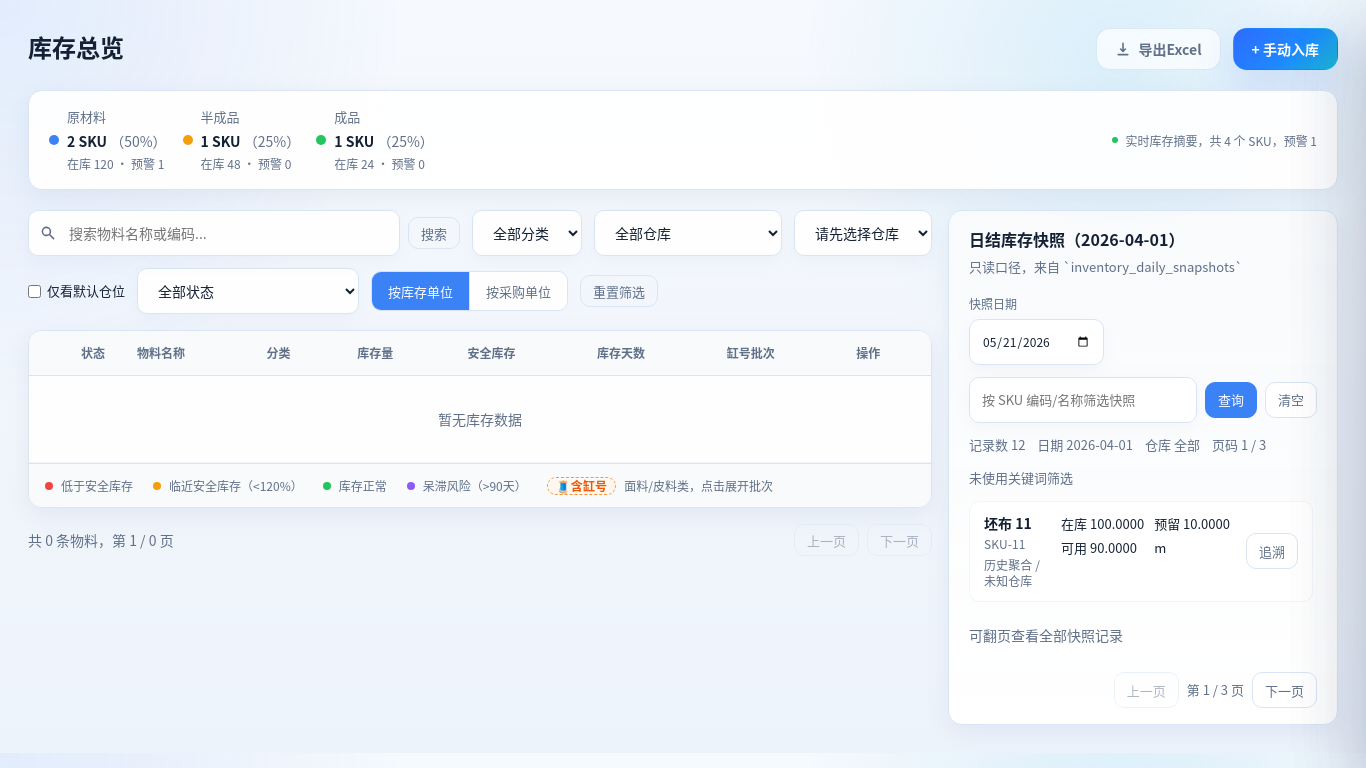
InventoryPage › 从日结快照点击追溯后应打开库存追溯抽屉
The width and height of the screenshot is (1366, 768).
Click the button "追溯": [1272, 551] box x1=1246 y1=533 x2=1298 y2=569
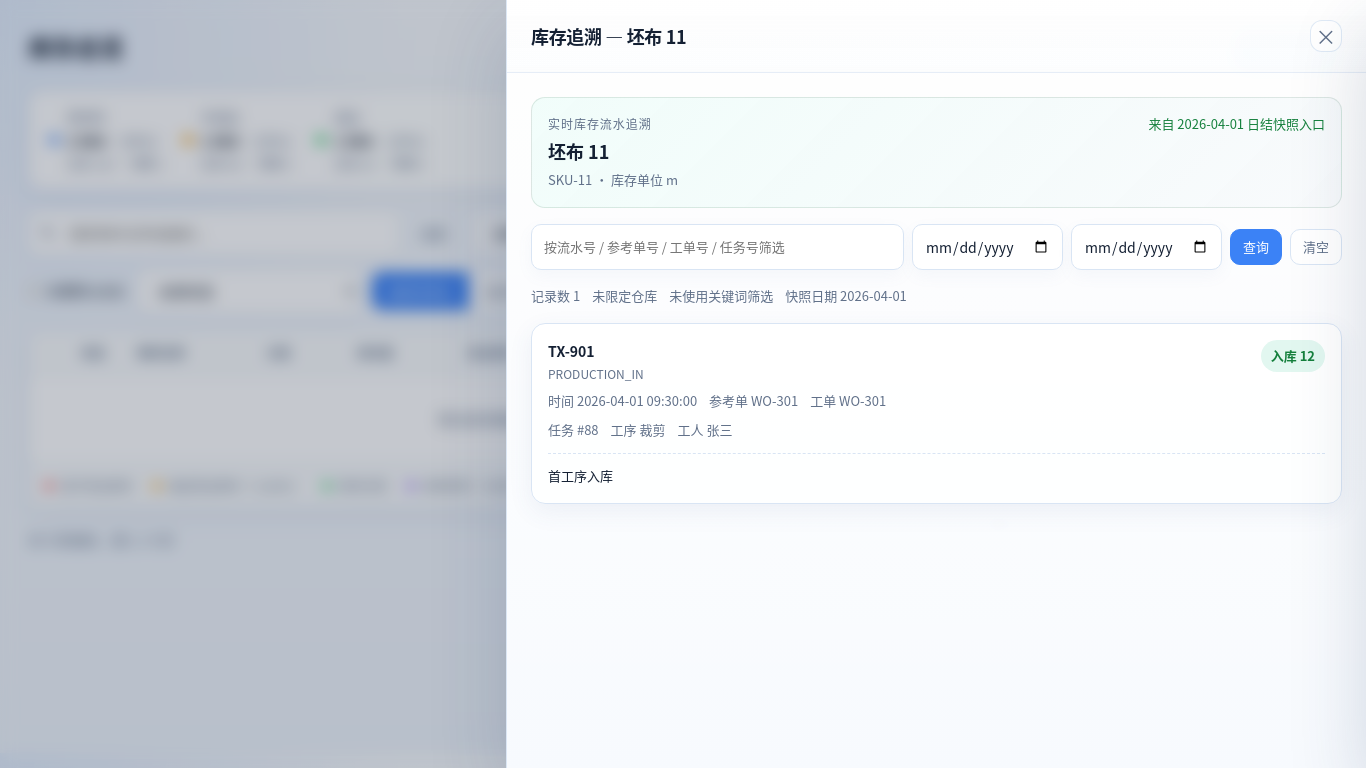
Check: the dialog "库存追溯 — 坯布 11" is shown
Check: the text "TX-901" is shown, box x1=548 y1=341 x2=595 y2=361
